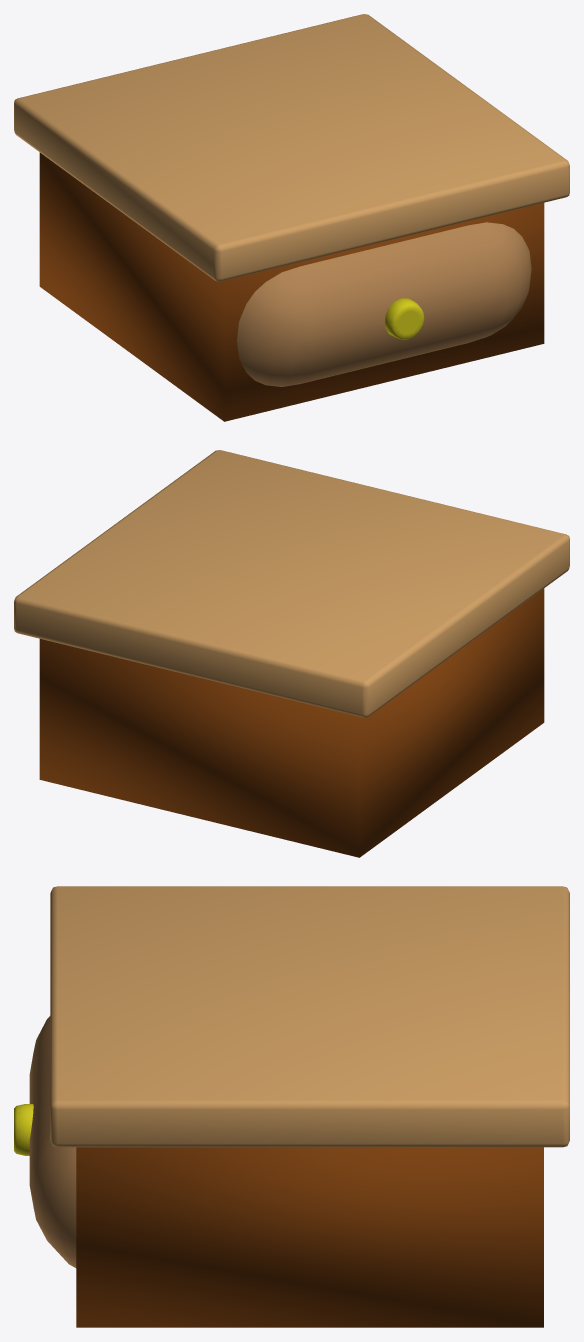
The model's file is Cabinet.glb.
The picture shows the model from 3 angles, top to bottom: view 1: azimuth 30°, elevation 25°; view 2: azimuth 150°, elevation 25°; view 3: azimuth 270°, elevation 25°; orthographic projection. The views are drawn at different scales.
Parts seen in each view (by area): view 1: Basic_Cabinet; view 2: Basic_Cabinet; view 3: Basic_Cabinet.
Boxes of the visible parts, x1,y1,x2,y2 form: Basic_Cabinet: [14, 14, 569, 421]; Basic_Cabinet: [14, 450, 569, 857]; Basic_Cabinet: [14, 886, 569, 1327].
Bounding box in the file's own units: 1 × 0.5 × 1.07.
